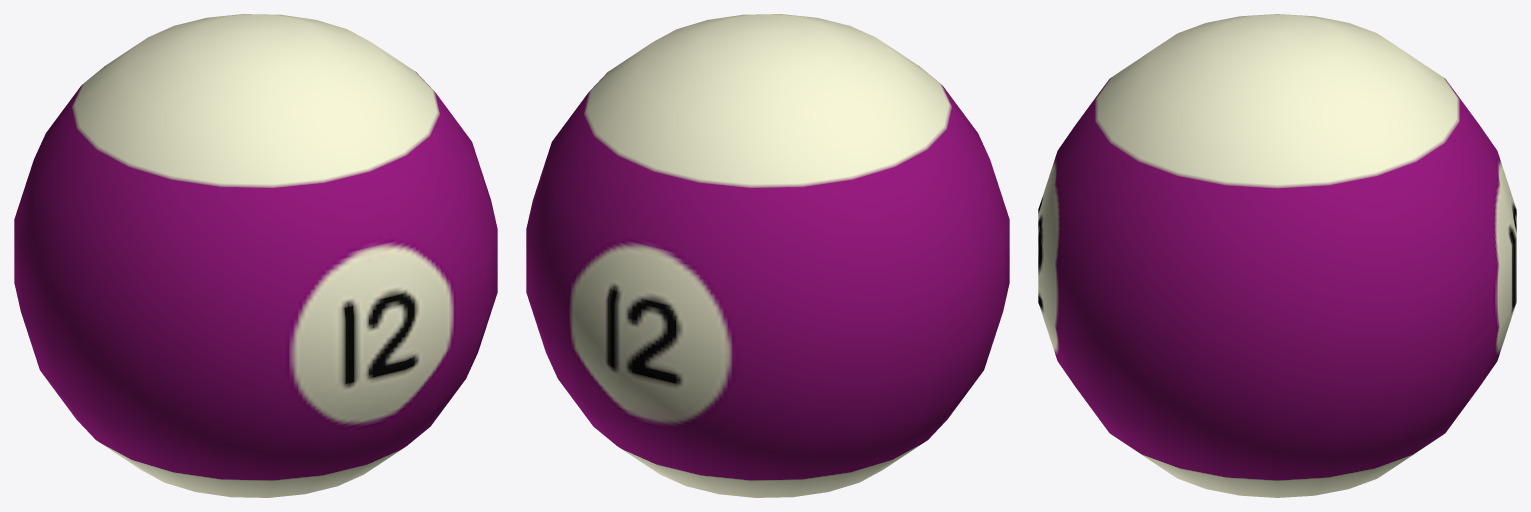
Rendered from Ball_12.FBX.
3 renders of one model, left to right at view 1: azimuth 30°, elevation 25°; view 2: azimuth 150°, elevation 25°; view 3: azimuth 270°, elevation 25°, orthographic.
Parts seen in each view (by area): view 1: Ball_12; view 2: Ball_12; view 3: Ball_12.
Part boxes in pixels (x1,y1,x2,y2): Ball_12: [14, 14, 497, 497]; Ball_12: [526, 14, 1009, 497]; Ball_12: [1038, 14, 1516, 497].
Size of the model in its own units: 5.64 by 5.7 by 5.58.
